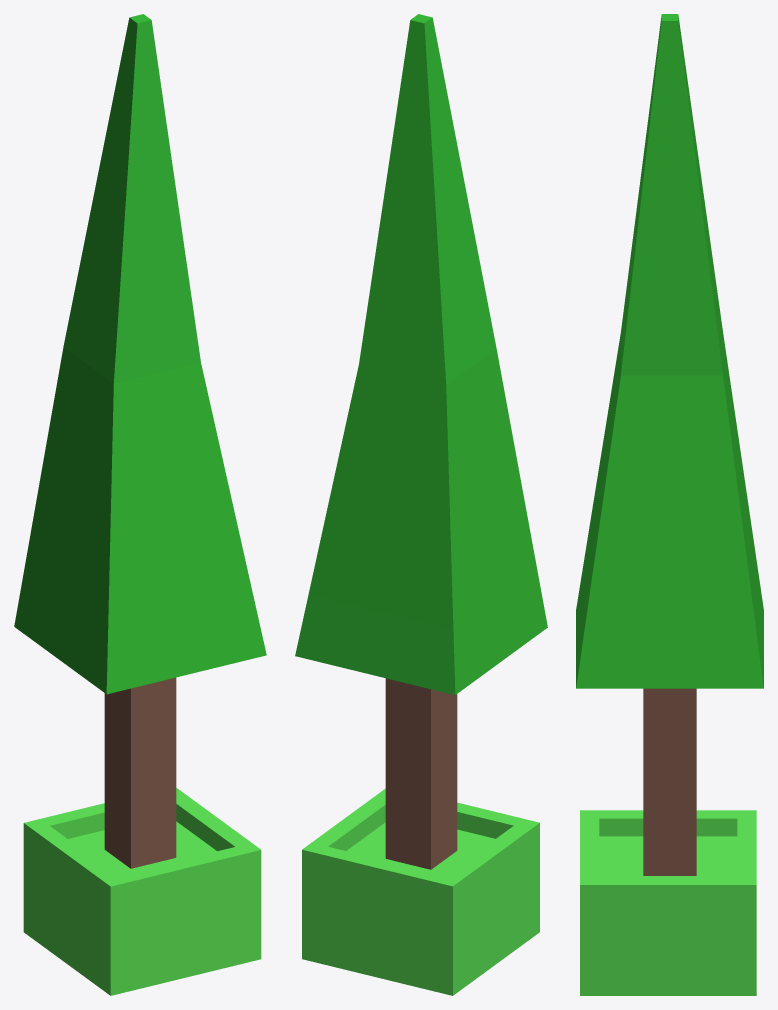
File: Tree03.fbx
The picture shows the model from 3 angles, left to right: view 1: azimuth 30°, elevation 25°; view 2: azimuth 150°, elevation 25°; view 3: azimuth 270°, elevation 25°; orthographic projection.
Visible parts, largest first — view 1: 立方体.3224; view 2: 立方体.3224; view 3: 立方体.3224.
Boxes of the visible parts, x1=… form: 立方体.3224: x1=14, y1=14, x2=266, y2=995; 立方体.3224: x1=295, y1=14, x2=547, y2=995; 立方体.3224: x1=576, y1=14, x2=763, y2=995.
Bounding box in the file's own units: 43 × 238 × 43.
